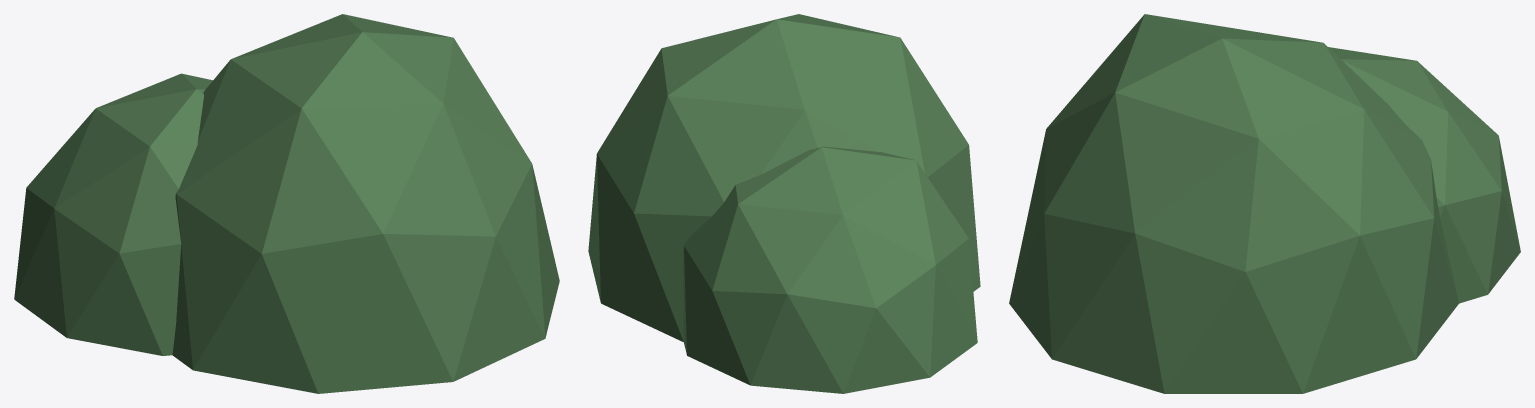
File: bush_growing.glb
3 views of the same model, side by side, from view 1: azimuth 30°, elevation 25°; view 2: azimuth 150°, elevation 25°; view 3: azimuth 270°, elevation 25° (orthographic). The views are drawn at different scales.
Parts seen in each view (by area): view 1: Icosphere, Icosphere.001; view 2: Icosphere, Icosphere.001; view 3: Icosphere, Icosphere.001.
Boxes of the visible parts, x1=… form: Icosphere: x1=172, y1=14, x2=559, y2=393; Icosphere.001: x1=14, y1=73, x2=212, y2=355; Icosphere: x1=588, y1=14, x2=980, y2=342; Icosphere.001: x1=683, y1=146, x2=977, y2=393; Icosphere: x1=1009, y1=14, x2=1458, y2=393; Icosphere.001: x1=1328, y1=47, x2=1520, y2=303.
Bounding box in the file's own units: 1.73 × 1.04 × 1.77.
